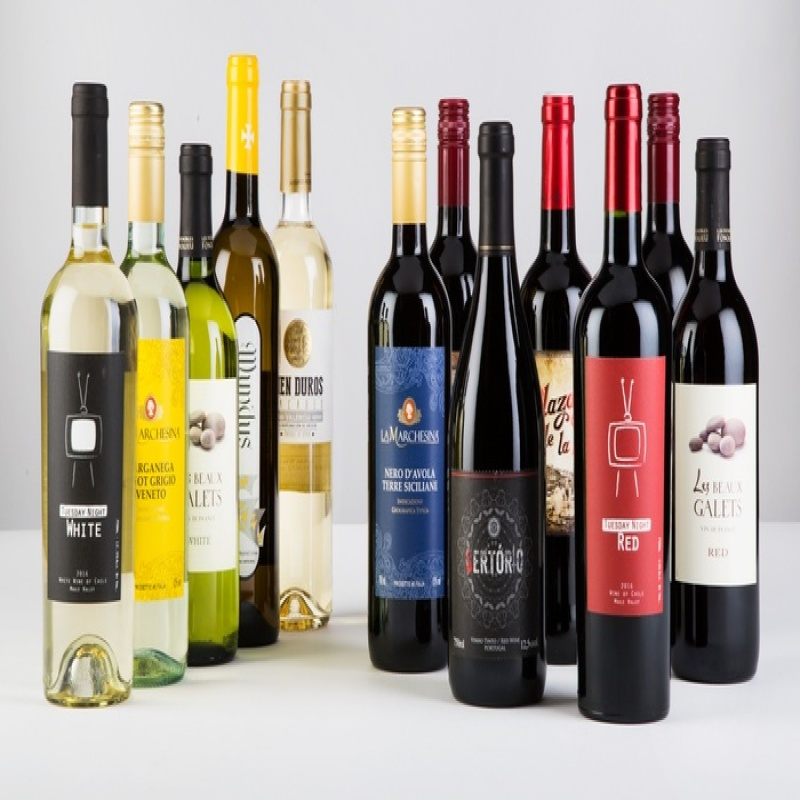wine: (41, 85, 136, 707), (449, 130, 544, 708), (369, 105, 463, 679), (666, 144, 765, 680), (584, 109, 662, 720), (214, 48, 276, 657), (280, 80, 334, 639)
